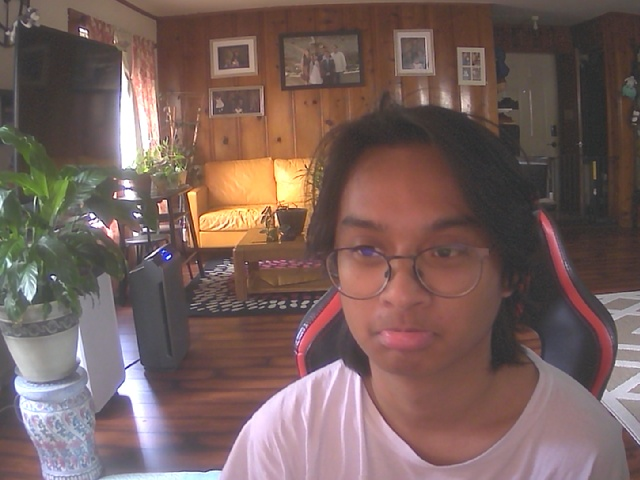sad: (314, 121, 528, 381)
